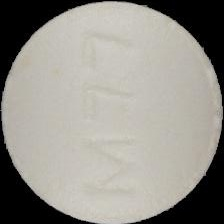51079-131: (0, 0, 224, 224)
